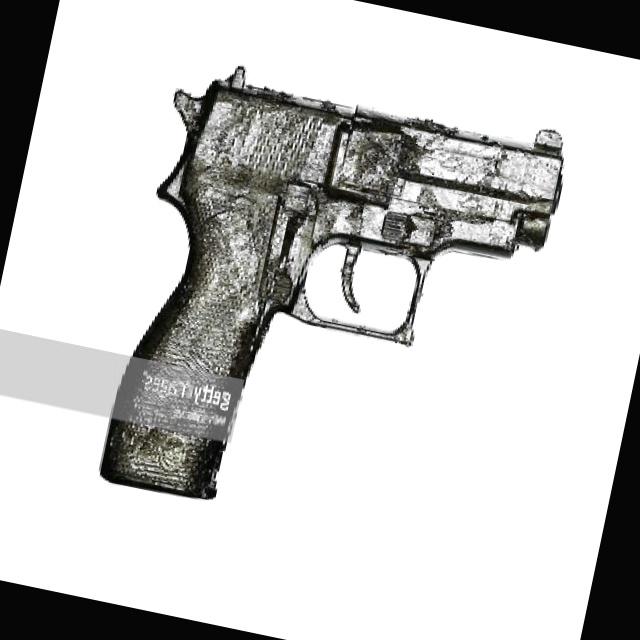gun: (87, 39, 584, 563)
